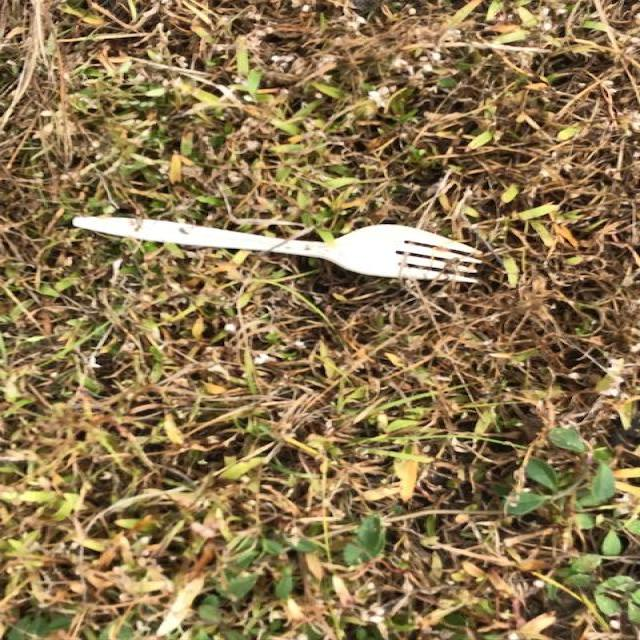litter: (284, 115, 379, 426)
